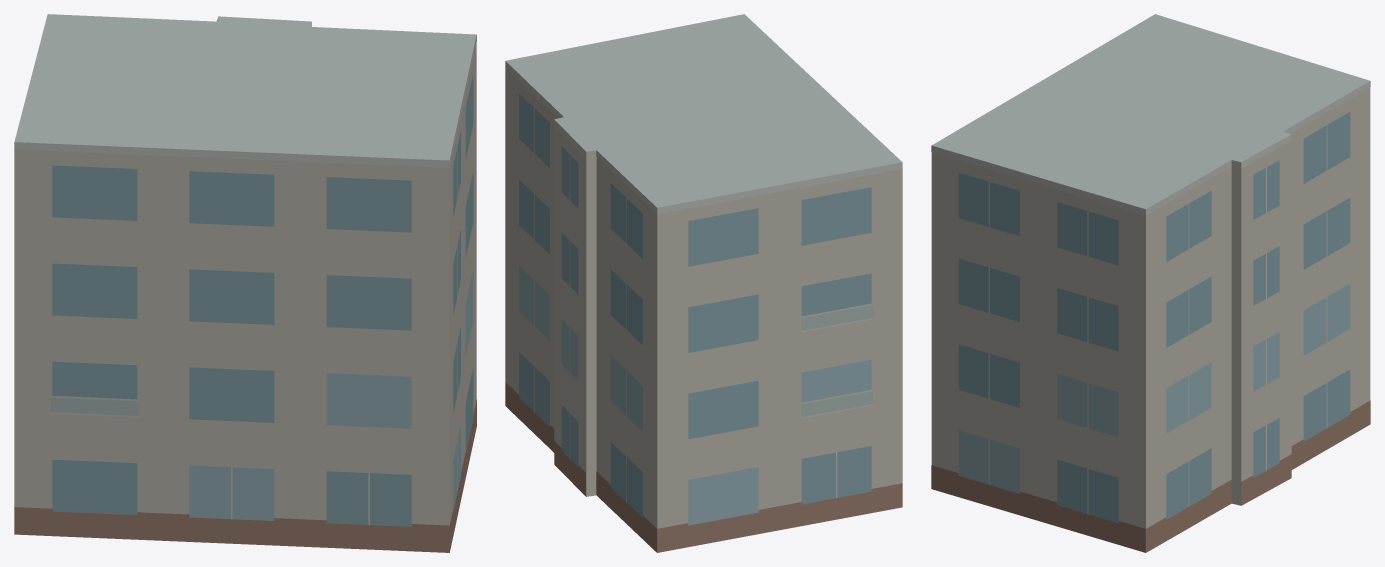
The model's file is survey-upis-33010834.glb.
3 views of the same model, side by side, from view 1: azimuth 30°, elevation 25°; view 2: azimuth 150°, elevation 25°; view 3: azimuth 270°, elevation 25° (orthographic). The views are drawn at different scales.
Parts seen in each view (by area): view 1: survey-upis-33010834.tmp; view 2: survey-upis-33010834.tmp; view 3: survey-upis-33010834.tmp.
Boxes of the visible parts, box(x1,y1,x2,y2) form: survey-upis-33010834.tmp: box(14, 14, 476, 552); survey-upis-33010834.tmp: box(505, 14, 902, 552); survey-upis-33010834.tmp: box(931, 14, 1370, 552).
Size of the model in its own units: 15.55 by 12.75 by 14.77.
